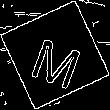M_N: (25, 23, 85, 87)
